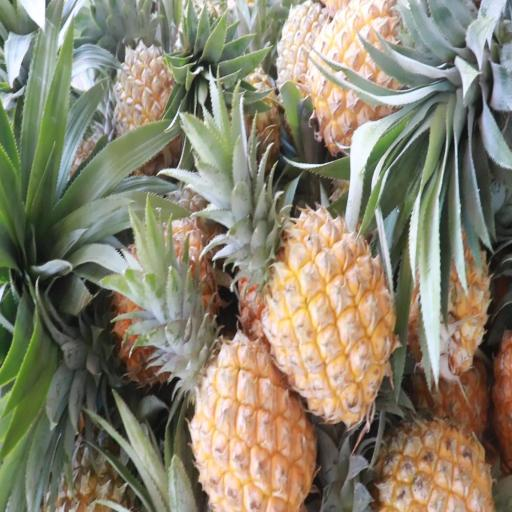Pineapple - v8 v1: (247, 206, 399, 421), (186, 291, 320, 512), (310, 0, 451, 159)
